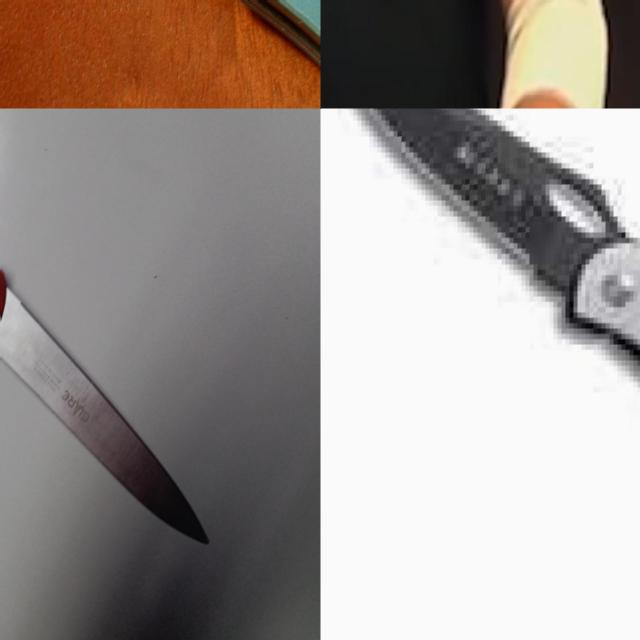Knife: (368, 108, 640, 360), (0, 270, 209, 539)
